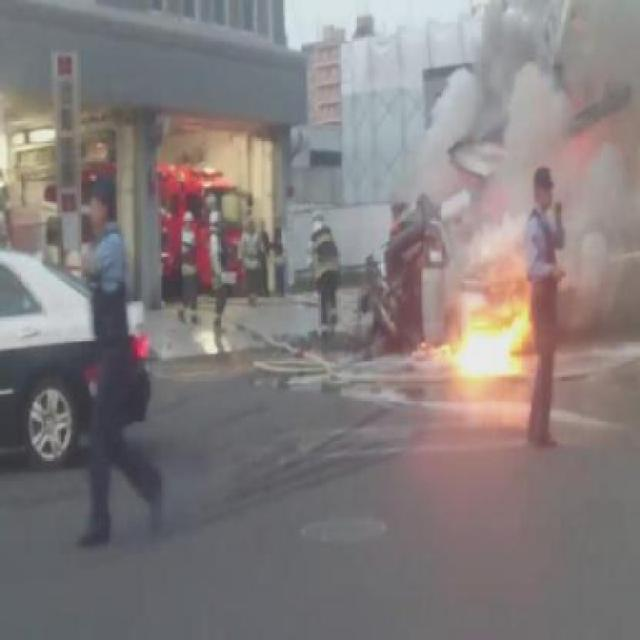Fire: (474, 254, 536, 316), (464, 314, 528, 368)
Smoke: (564, 160, 638, 345), (504, 63, 578, 169), (480, 10, 634, 56), (474, 172, 531, 257), (440, 70, 506, 141)
